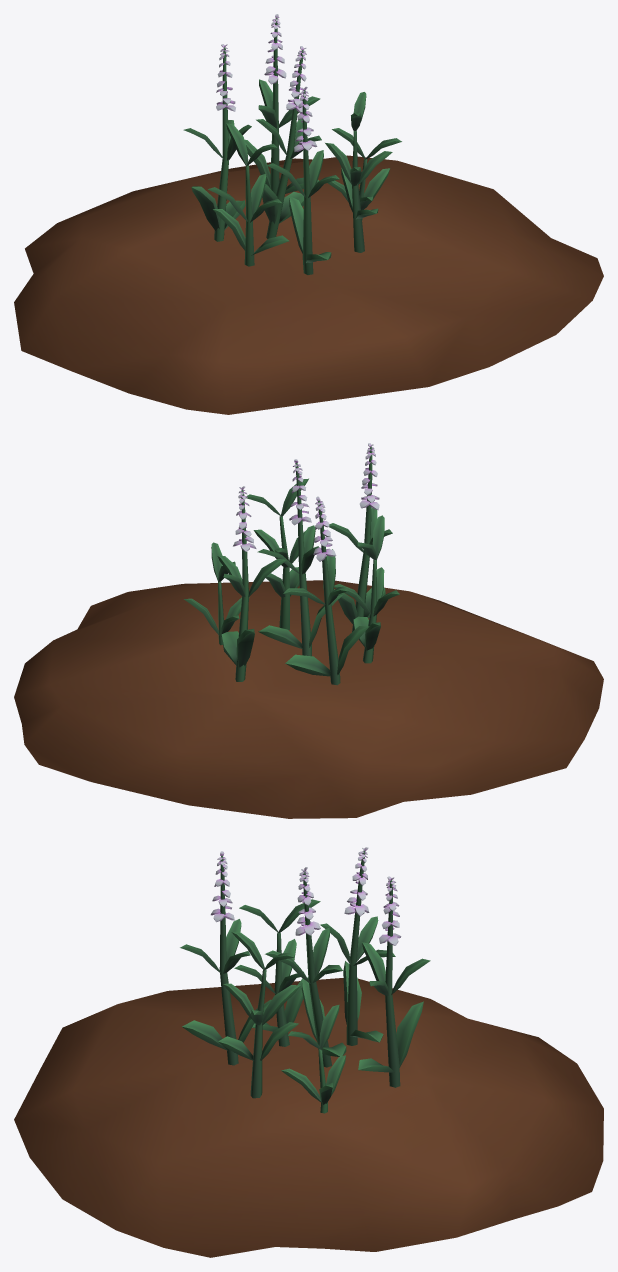
Rendered from SM_PlantSoil_Sage_Lv2.fbx.
The picture shows the model from 3 angles, top to bottom: view 1: azimuth 30°, elevation 25°; view 2: azimuth 150°, elevation 25°; view 3: azimuth 270°, elevation 25°; orthographic projection. The views are drawn at different scales.
Parts seen in each view (by area): view 1: SM_PlantSoil_Sage_Lv2; view 2: SM_PlantSoil_Sage_Lv2; view 3: SM_PlantSoil_Sage_Lv2.
Boxes of the visible parts, x1=… form: SM_PlantSoil_Sage_Lv2: x1=14, y1=14, x2=603, y2=414; SM_PlantSoil_Sage_Lv2: x1=14, y1=443, x2=603, y2=818; SM_PlantSoil_Sage_Lv2: x1=14, y1=847, x2=603, y2=1257.
Bounding box in the file's own units: 118 × 59.79 × 106.
